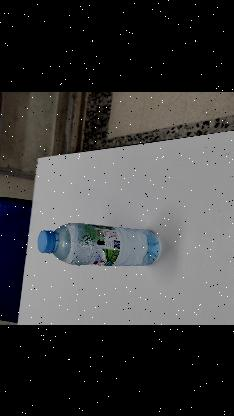Plastic Bottle: (35, 221, 165, 270)
